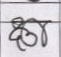i_matra: (29, 18, 48, 46)
